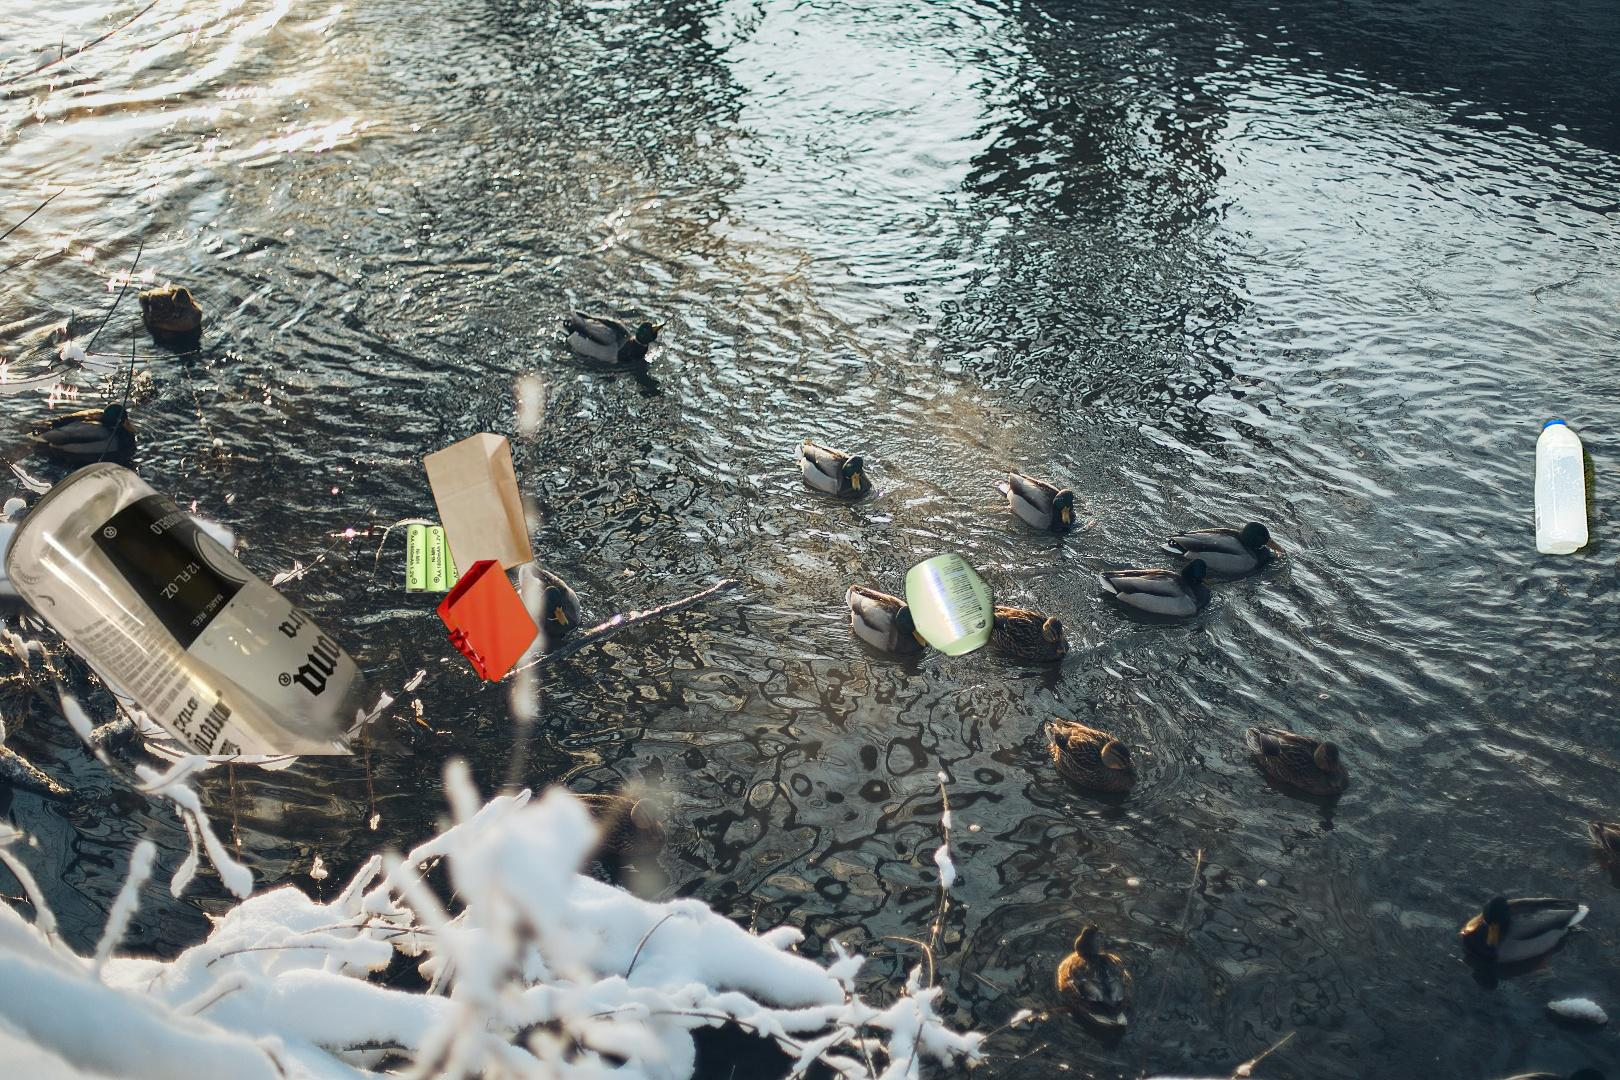battery: (403, 520, 471, 595)
glass: (0, 458, 466, 755)
metal-cans: (900, 545, 1000, 663)
paper-bag: (419, 429, 542, 686)
plastic-bottles: (1113, 410, 1603, 946), (1616, 759, 1620, 1069)
